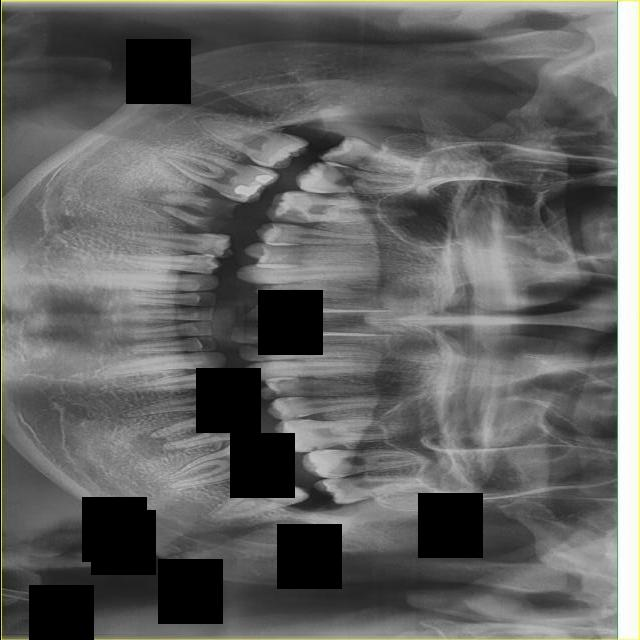74: (272, 329, 391, 340), (271, 306, 389, 313)
NucleOSS Implant: (249, 438, 286, 474), (233, 185, 260, 196), (223, 395, 241, 410), (255, 172, 273, 186)
Sterngold Implant: (199, 408, 251, 442), (205, 198, 235, 220), (274, 205, 308, 224), (235, 321, 265, 339), (195, 217, 225, 233), (264, 386, 292, 403), (252, 284, 275, 298), (241, 310, 267, 322), (209, 400, 231, 409), (216, 385, 233, 395), (245, 345, 270, 351), (306, 445, 321, 451), (290, 413, 300, 418), (214, 383, 224, 388), (213, 233, 223, 238)
